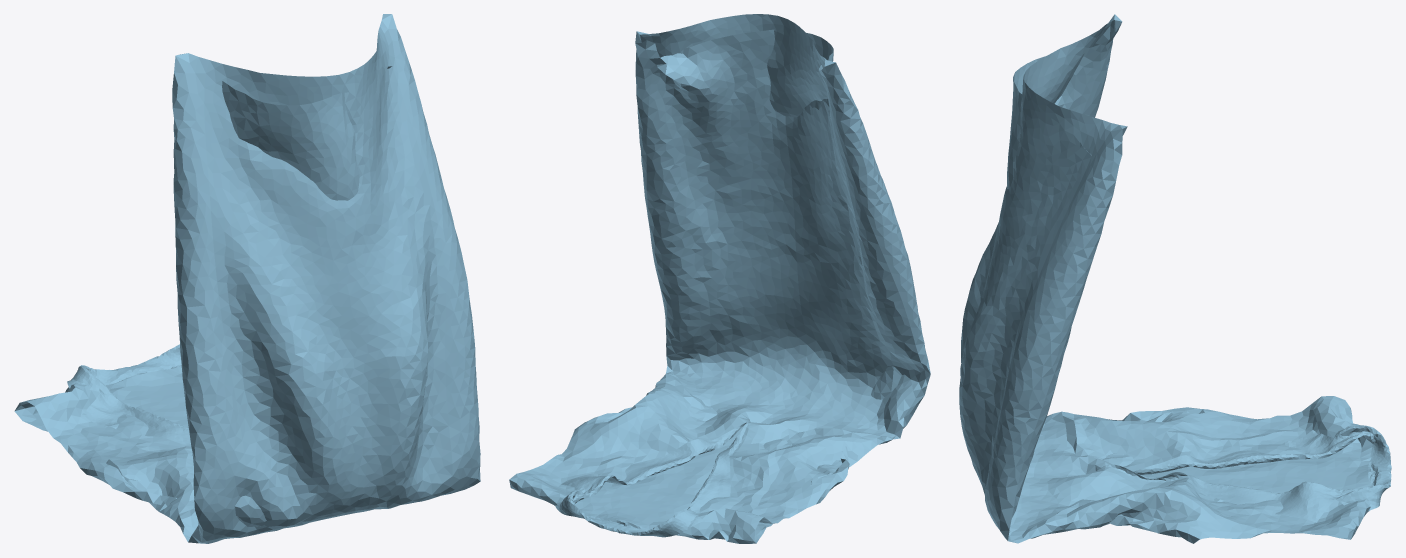
The model's file is frame_13.glb.
3 renders of one model, left to right at view 1: azimuth 30°, elevation 25°; view 2: azimuth 150°, elevation 25°; view 3: azimuth 270°, elevation 25°, orthographic. The views are drawn at different scales.
Visible parts, largest first — view 1: frame_13.obj; view 2: frame_13.obj; view 3: frame_13.obj.
Boxes of the visible parts, x1=… form: frame_13.obj: x1=14, y1=14, x2=480, y2=543; frame_13.obj: x1=509, y1=14, x2=930, y2=543; frame_13.obj: x1=959, y1=14, x2=1391, y2=543.
Size of the model in its own units: 0.6169 by 0.9072 by 0.8441.
